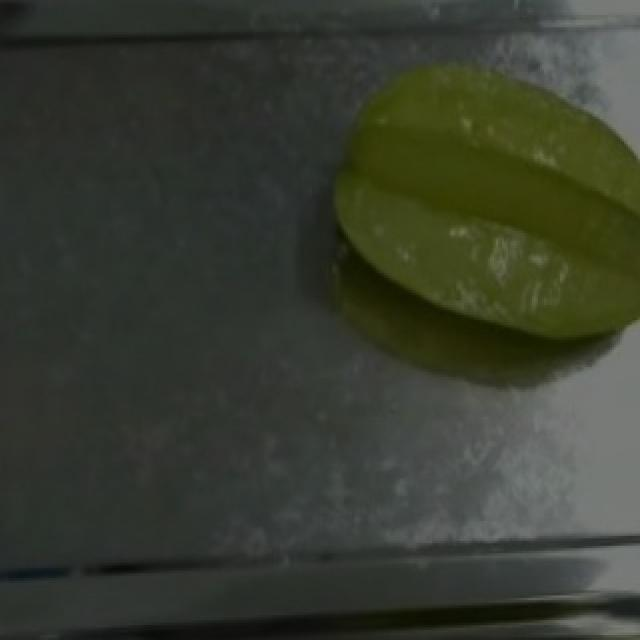fruit: (312, 39, 640, 370)
